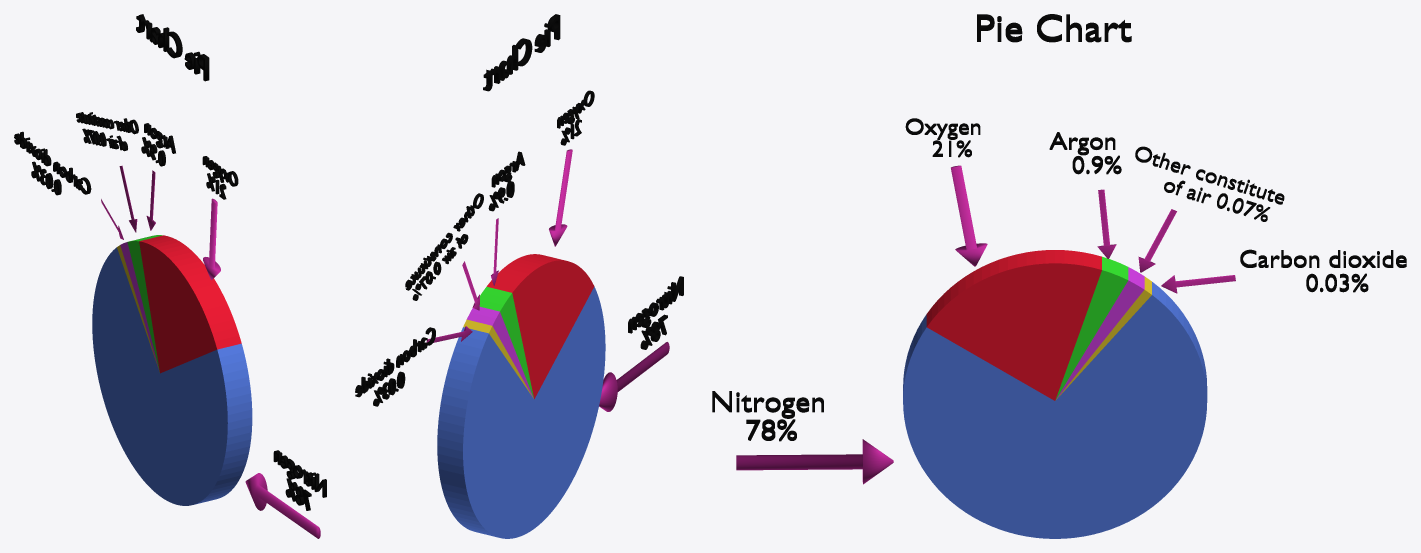
The model's file is Pie Chart.blend.gltf.
3 renders of one model, left to right at view 1: azimuth 30°, elevation 25°; view 2: azimuth 150°, elevation 25°; view 3: azimuth 270°, elevation 25°, orthographic. The views are drawn at different scales.
Visible parts, largest first — view 1: Cylinder, Text.003, Text.005, Text, Cylinder.016, Text.004, Text.002, Text.001, Cylinder.001; view 2: Cylinder, Text.003, Text.004, Text.005, Text, Cylinder.016, Text.002, Text.001, Cylinder.001; view 3: Cylinder, Cylinder.016, Text.003, Text.004, Text.005, Text, Cylinder.001, Text.002, Text.001.
Boxes of the visible parts, x1,y1,x2,y2 form: Cylinder: (92, 235, 252, 505); Text.003: (14, 131, 91, 195); Text.005: (136, 14, 209, 81); Text: (273, 450, 326, 510); Cylinder.016: (245, 473, 320, 538); Text.004: (76, 112, 138, 151); Text.002: (141, 123, 175, 166); Text.001: (202, 156, 238, 199); Cylinder.001: (203, 198, 220, 280); Cylinder: (437, 254, 605, 538); Text.003: (355, 327, 435, 406); Text.004: (405, 193, 483, 300); Text.005: (483, 14, 560, 91); Text: (628, 276, 683, 349); Cylinder.016: (599, 342, 669, 411); Text.002: (488, 151, 525, 211); Text.001: (557, 90, 594, 145); Cylinder.001: (549, 149, 572, 246); Cylinder: (903, 250, 1207, 538); Cylinder.016: (736, 439, 893, 484); Text.003: (1240, 249, 1406, 292); Text.004: (1135, 146, 1284, 221); Text.005: (977, 14, 1131, 42); Text: (712, 391, 823, 441); Cylinder.001: (951, 165, 987, 266); Text.002: (1049, 132, 1121, 174); Text.001: (905, 118, 980, 157).
Size of the model in its own units: 0.6654 by 11.95 by 14.55.
